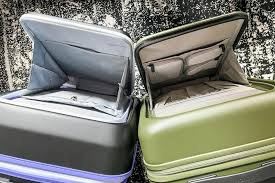suitcase: (132, 11, 275, 183), (1, 12, 142, 183)
